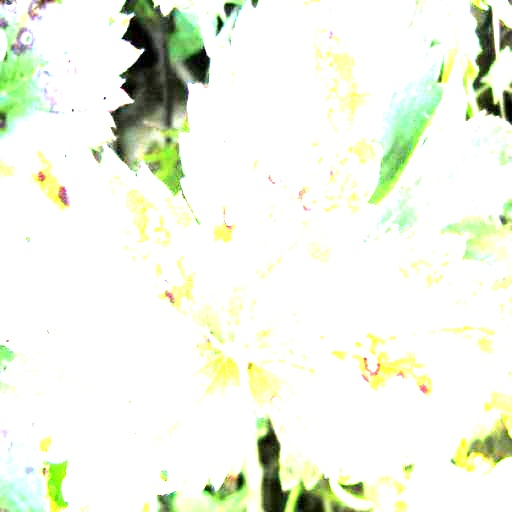Leaf Spot: (0, 141, 244, 495), (177, 0, 383, 351), (241, 217, 511, 482), (356, 110, 511, 303), (348, 0, 446, 205)
